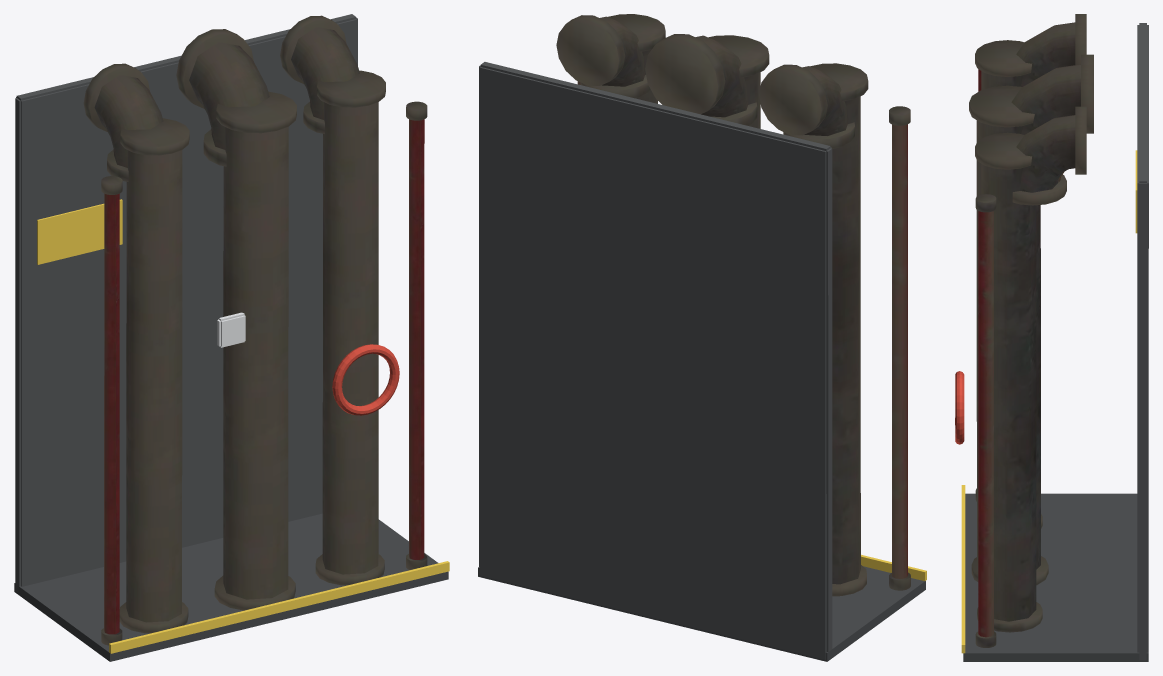
The model's file is pipes.glb.
3 views of the same model, side by side, from view 1: azimuth 30°, elevation 25°; view 2: azimuth 150°, elevation 25°; view 3: azimuth 270°, elevation 25° (orthographic). The views are drawn at different scales.
Parts seen in each view (by area): view 1: p_wall, p_pipe1, p_pipe0, p_pipe2, p_base, p_red0, p_red1, p_elbow1, p_elbow2, p_elbow0, p_hz, p_sign (+2 smaller); view 2: p_wall, p_pipe0, p_red0, p_elbow1, p_elbow0, p_elbow2, p_base, p_pipe1, p_pipe2; view 3: p_pipe2, p_base, p_wall, p_red1, p_pipe1, p_elbow2, p_elbow1, p_elbow0, p_pipe0, p_hz, p_valve.
Boxes of the visible parts, box(x1,y1,x2,y2) form: p_wall: box(15, 14, 357, 592); p_pipe1: box(214, 91, 296, 610); p_pipe0: box(119, 118, 189, 633); p_pipe2: box(315, 70, 385, 585); p_base: box(14, 513, 448, 661); p_red0: box(101, 176, 122, 645); p_red1: box(406, 101, 427, 569); p_elbow1: box(176, 29, 269, 166); p_elbow2: box(280, 15, 359, 133); p_elbow0: box(83, 63, 163, 181); p_hz: box(109, 561, 449, 653); p_sign: box(37, 199, 122, 264); p_wall: box(479, 62, 832, 659); p_pipe0: box(810, 63, 868, 596); p_red0: box(889, 106, 910, 590); p_elbow1: box(645, 34, 757, 126); p_elbow0: box(759, 64, 854, 148); p_elbow2: box(556, 15, 650, 98); p_base: box(478, 566, 925, 661); p_pipe1: box(708, 35, 769, 128); p_pipe2: box(608, 14, 665, 103); p_pipe2: box(975, 132, 1042, 632); p_base: box(963, 493, 1148, 661); p_wall: box(1137, 23, 1148, 660); p_red1: box(975, 194, 996, 647); p_pipe1: box(969, 85, 1048, 585); p_elbow2: box(1012, 106, 1086, 205); p_elbow1: box(1011, 54, 1093, 134); p_elbow0: box(1016, 14, 1086, 86); p_pipe0: box(975, 40, 1042, 528); p_hz: box(961, 485, 965, 653); p_valve: box(955, 371, 964, 444).
Size of the model in its own units: 2 by 3.06 by 1.02.
6 materials, 1 textured.
